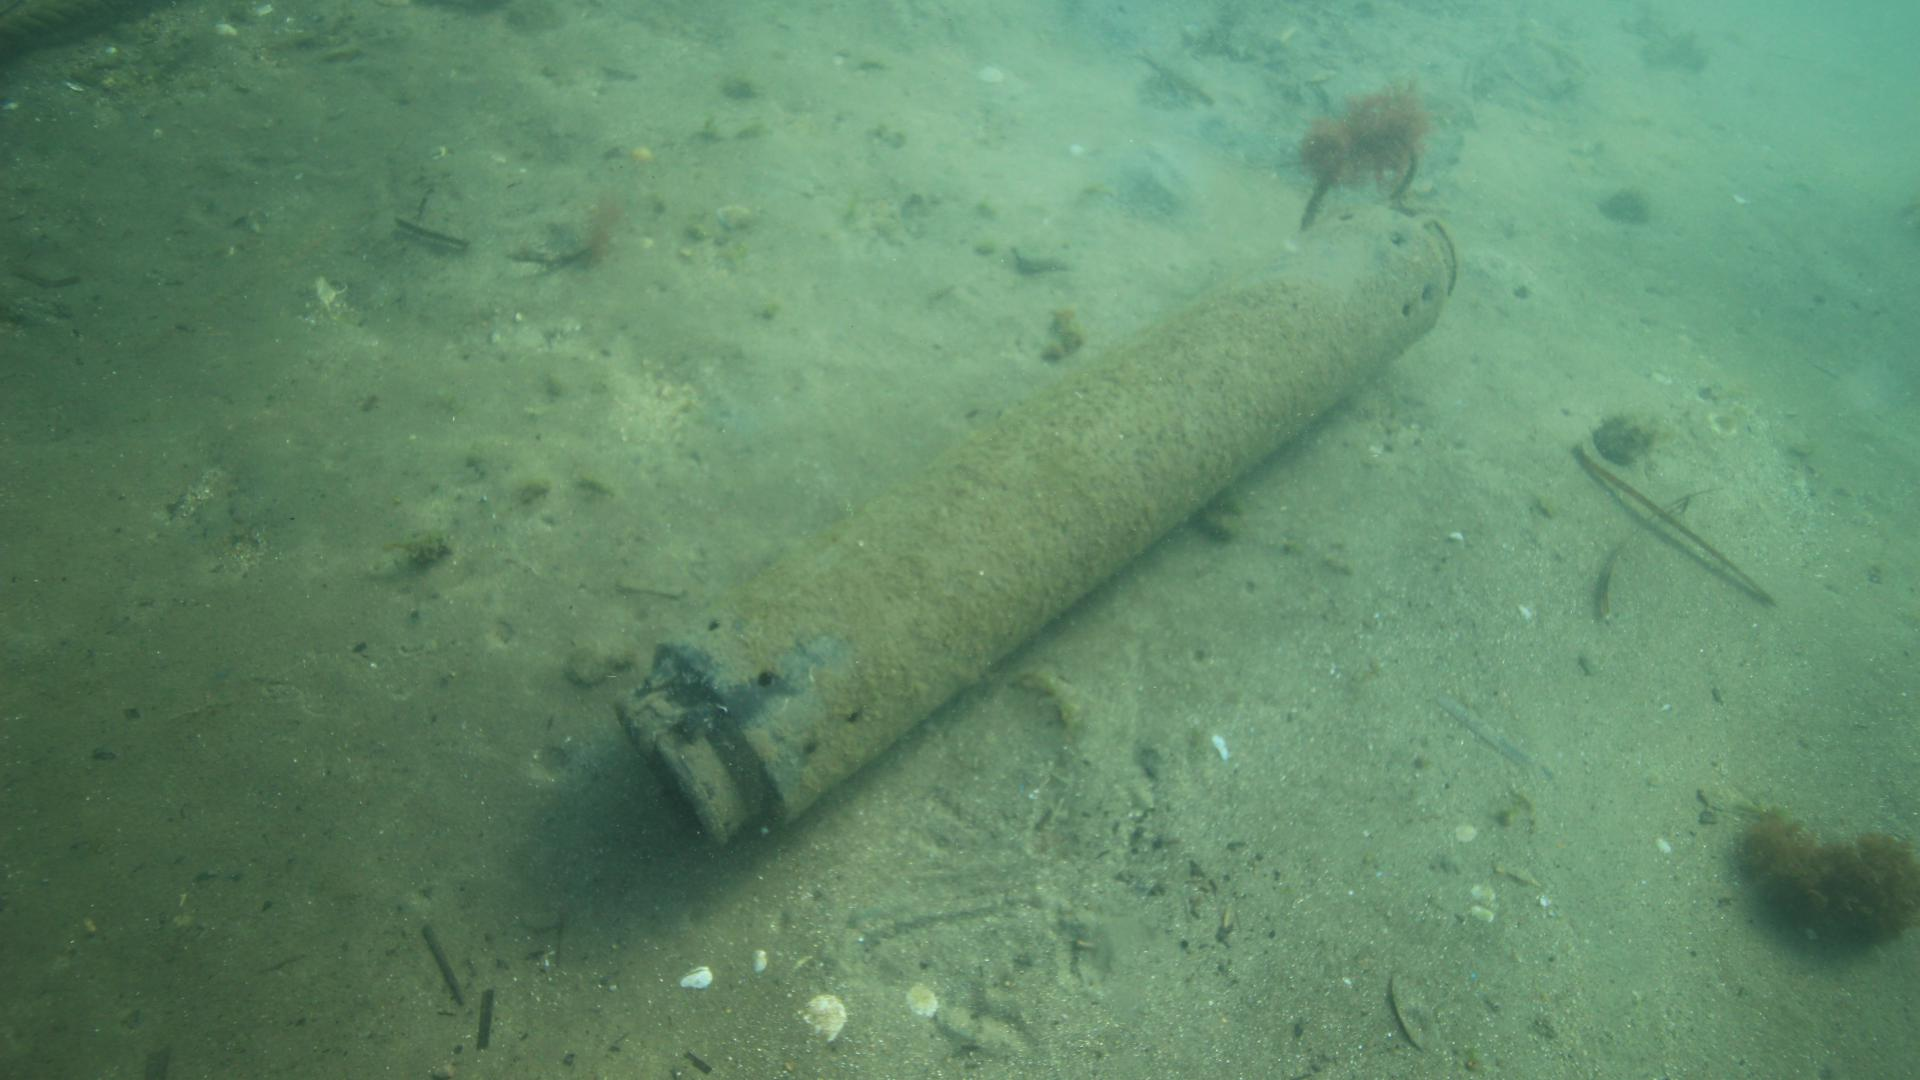eel fish trap: (611, 200, 1461, 839)
